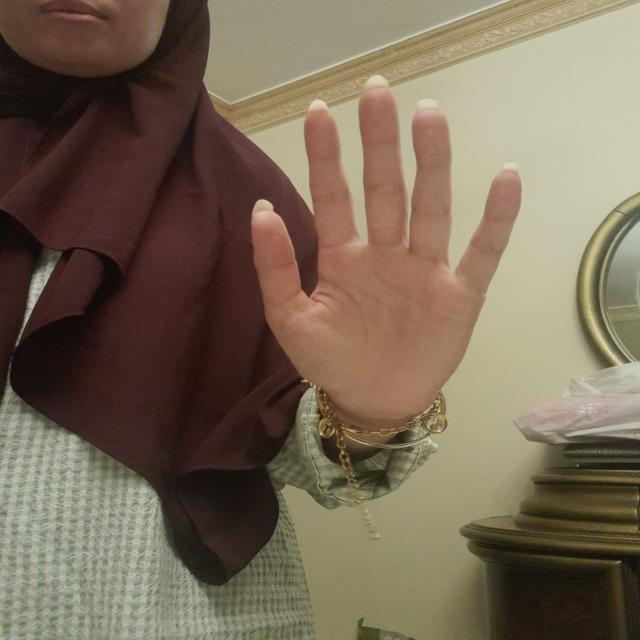Open Hand: (246, 88, 518, 420)
